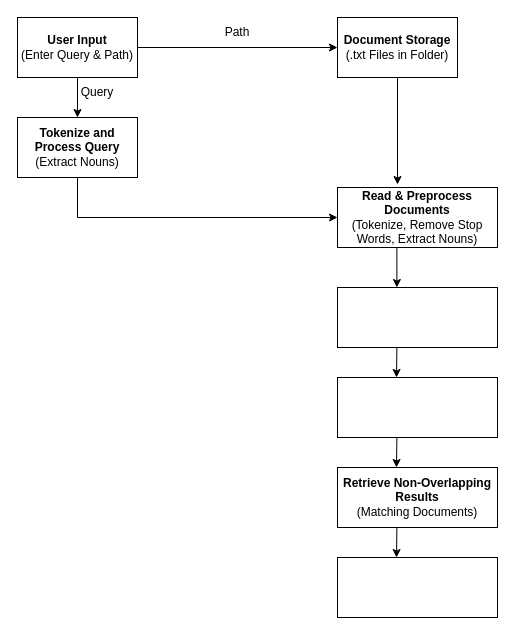
Some shapes in this 515 by 635 pixel diagram are drawn without their labels. Each missing label, with the centre of its shape:
"Compare Query Nouns with Document Nouns (Match Results)" belongs at pixel 417 407.
"Display Relevant Documents (Based on Query Matches)" belongs at pixel 417 587.
"Store Processed Document Nouns" belongs at pixel 417 317.
